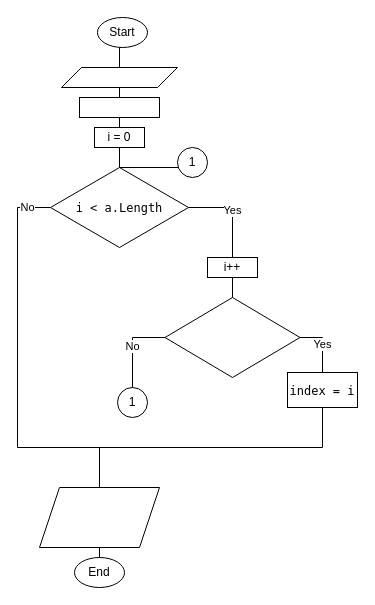
Image size: 375x605. Some labels were removed from this diagram. The box of each missing label's shape, as (x1, y1, x2, y2) in pixels:
index: (38, 486, 160, 548)
index = 0: (78, 96, 160, 118)
pivot == a[i]: (164, 296, 300, 378)
pivot, a[]: (60, 66, 178, 88)
